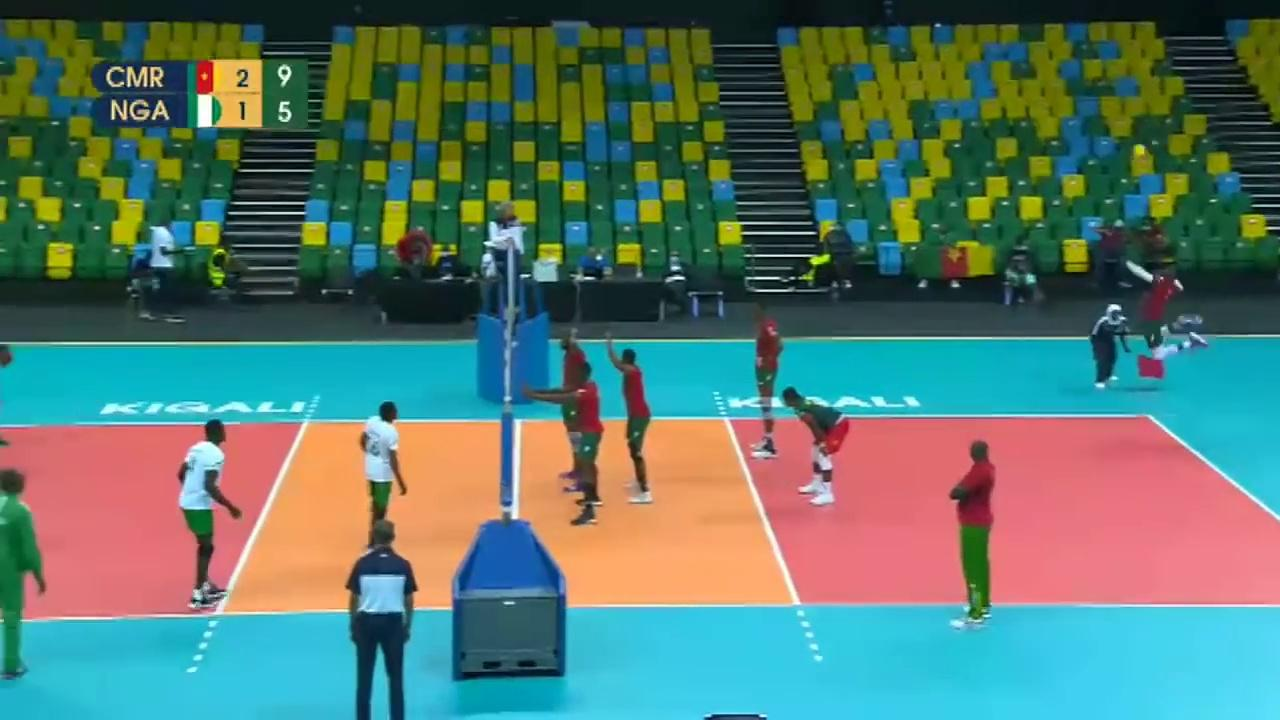player: (172, 420, 242, 608), (562, 366, 623, 530), (1131, 253, 1222, 361), (604, 329, 656, 503), (782, 387, 850, 508), (359, 401, 408, 557), (558, 328, 598, 489), (748, 300, 784, 466)
refree: (343, 519, 419, 714), (486, 201, 529, 314), (1090, 303, 1133, 391)
